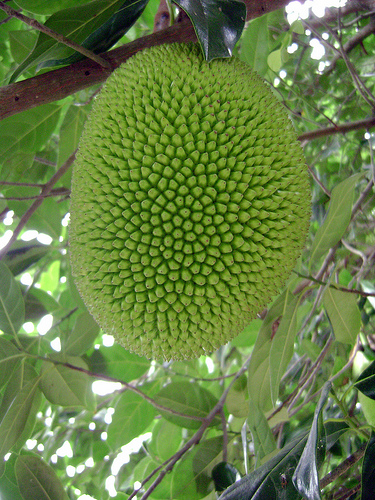jackfruit: (66, 38, 312, 362)
